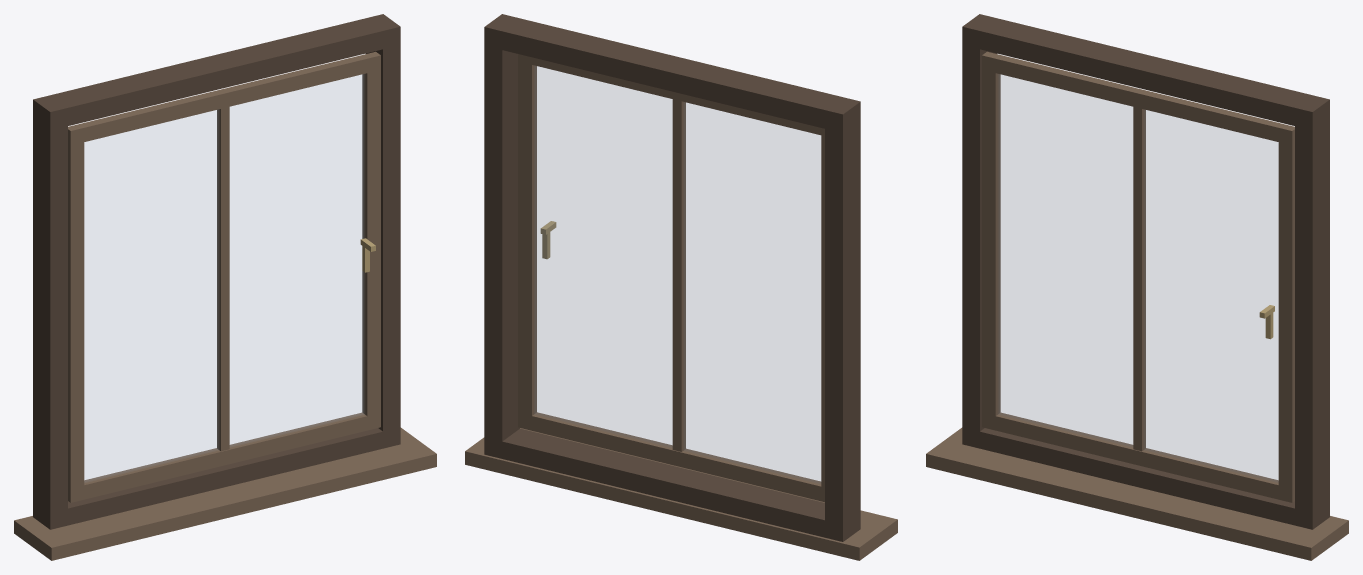
The model's file is window.glb.
3 views of the same model, side by side, from view 1: azimuth 30°, elevation 25°; view 2: azimuth 150°, elevation 25°; view 3: azimuth 330°, elevation 25° (orthographic). The views are drawn at different scales.
Visible parts, largest first — view 1: glass, frame, sash_leaf, sill; view 2: glass, frame, sash_leaf, sill; view 3: glass, frame, sash_leaf, sill.
Boxes of the visible parts, <box> form: glass: <box>84,74,363,481</box>; frame: <box>33,14,400,529</box>; sash_leaf: <box>68,51,380,502</box>; sill: <box>14,427,436,560</box>; glass: <box>535,66,820,483</box>; frame: <box>484,14,860,541</box>; sash_leaf: <box>518,54,824,502</box>; sill: <box>465,428,897,560</box>; glass: <box>999,74,1278,481</box>; frame: <box>962,14,1329,529</box>; sash_leaf: <box>982,51,1294,502</box>; sill: <box>926,427,1348,560</box>.
Size of the model in its own units: 1.54 by 1.65 by 0.26.
